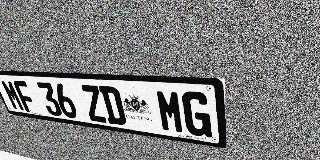3: (36, 82, 63, 117)
6: (51, 83, 79, 119)
D: (98, 86, 127, 126)
F: (12, 80, 39, 113)
G: (181, 91, 212, 138)
M: (155, 89, 185, 134), (0, 80, 26, 111)
Z: (79, 84, 108, 123)
